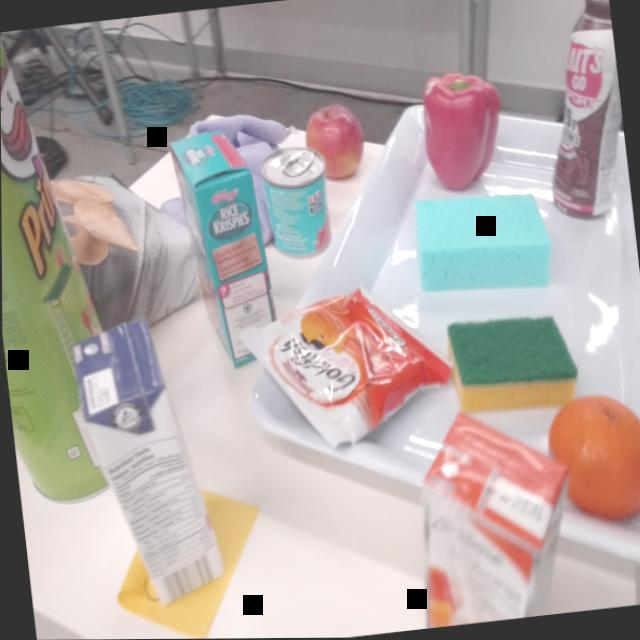apple: (297, 98, 370, 186)
cereal: (165, 121, 288, 378)
chocolate_drink: (523, 0, 633, 231)
crackers: (231, 271, 464, 470)
grape_juice: (61, 307, 230, 618)
orange: (537, 385, 640, 538)
paprika: (413, 62, 512, 198)
sausages: (255, 143, 338, 265)
scrubby: (439, 303, 584, 424)
sponge_opl: (406, 180, 559, 308)
